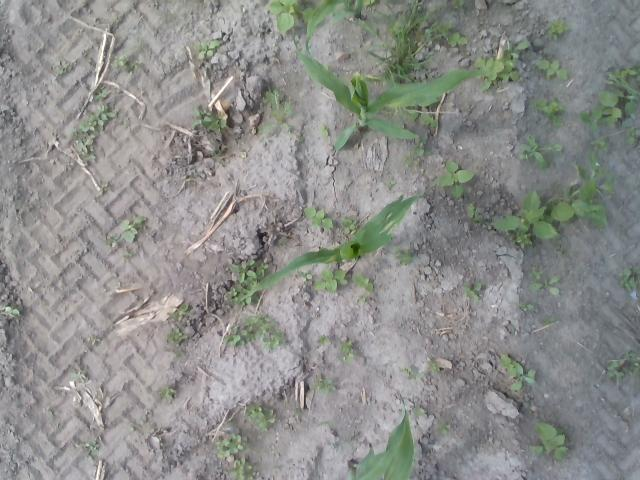Maize: (290, 26, 493, 148), (240, 182, 430, 302), (343, 389, 416, 480), (304, 0, 376, 58)
Weeds: (359, 4, 435, 94), (491, 190, 574, 248), (565, 150, 614, 228), (474, 40, 530, 92), (66, 104, 116, 162), (222, 310, 286, 351), (257, 91, 306, 142), (224, 258, 268, 308), (267, 0, 328, 35), (605, 64, 640, 118), (577, 90, 622, 132), (517, 136, 562, 170), (528, 423, 568, 460), (436, 161, 476, 197), (500, 354, 536, 391), (532, 96, 566, 126), (528, 266, 561, 296), (607, 352, 640, 382), (191, 104, 226, 132), (382, 104, 419, 130), (244, 403, 276, 432), (110, 45, 143, 73), (436, 20, 469, 47), (314, 268, 348, 292), (404, 138, 431, 166), (215, 432, 244, 458), (538, 58, 570, 81), (120, 216, 145, 243), (228, 456, 256, 480), (302, 208, 332, 228), (618, 265, 640, 289), (546, 19, 570, 41), (390, 246, 416, 266), (193, 40, 220, 59), (398, 365, 424, 382), (463, 279, 483, 301), (336, 340, 354, 364), (466, 202, 484, 226), (354, 273, 374, 292), (552, 242, 570, 262), (314, 378, 336, 394), (166, 328, 186, 344), (624, 126, 640, 146), (166, 304, 188, 318), (340, 216, 356, 234), (590, 136, 608, 152), (85, 440, 100, 456), (92, 86, 108, 100), (54, 59, 68, 75), (422, 112, 438, 126), (159, 387, 175, 400), (434, 422, 451, 434), (3, 305, 20, 317), (518, 300, 536, 310), (105, 234, 118, 247), (298, 270, 312, 282), (427, 362, 440, 374), (317, 124, 330, 136), (317, 336, 331, 346), (451, 0, 465, 9), (544, 316, 556, 326), (356, 293, 368, 303), (90, 334, 101, 344), (172, 350, 185, 358), (70, 372, 87, 378), (412, 408, 424, 416), (292, 408, 302, 417), (388, 179, 398, 188), (122, 252, 136, 258), (212, 149, 222, 157), (362, 0, 375, 5), (465, 106, 471, 112)
